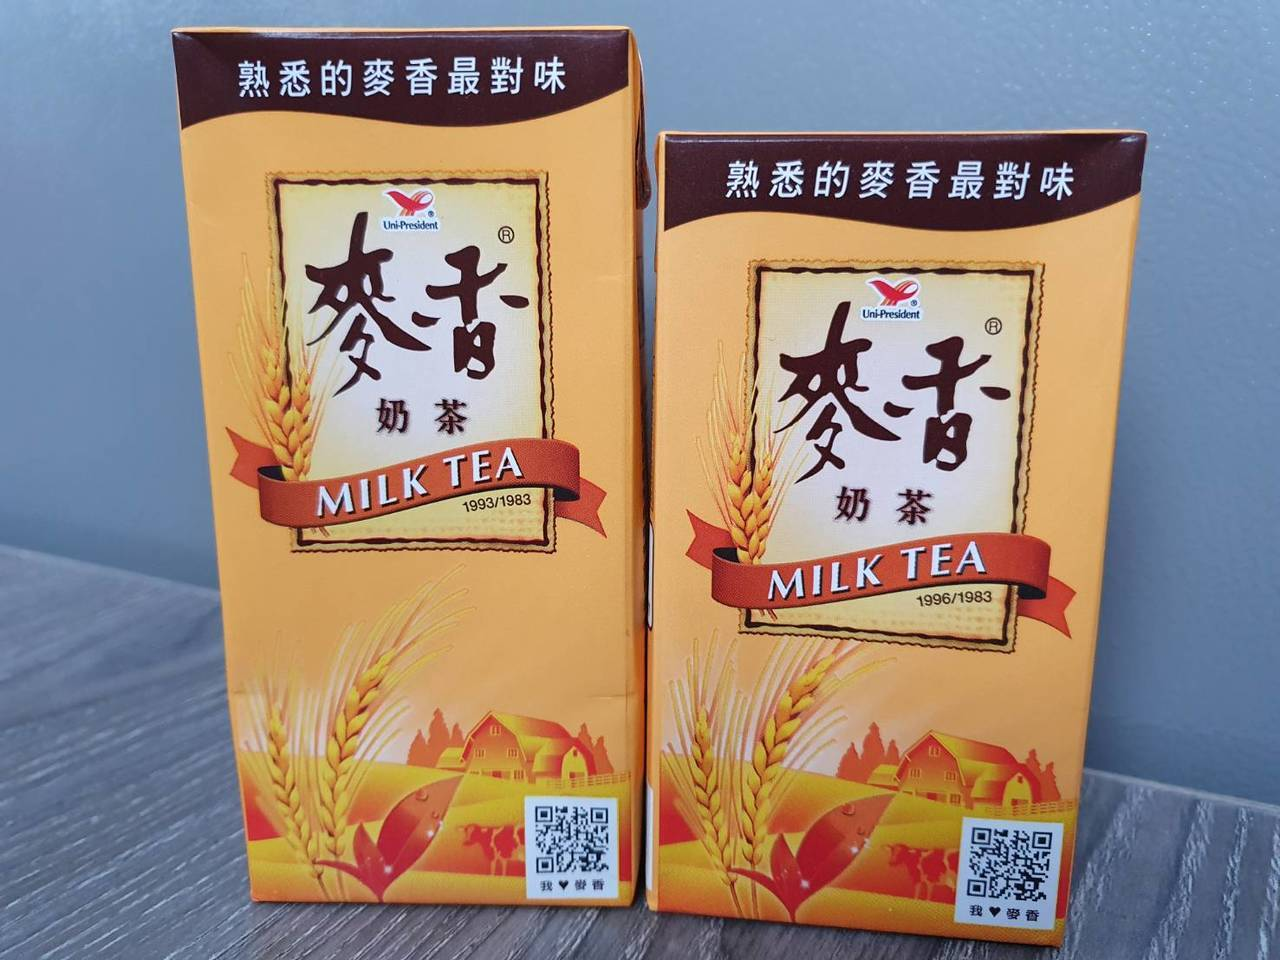鋁箔包: (155, 9, 652, 921), (652, 110, 1164, 960)
